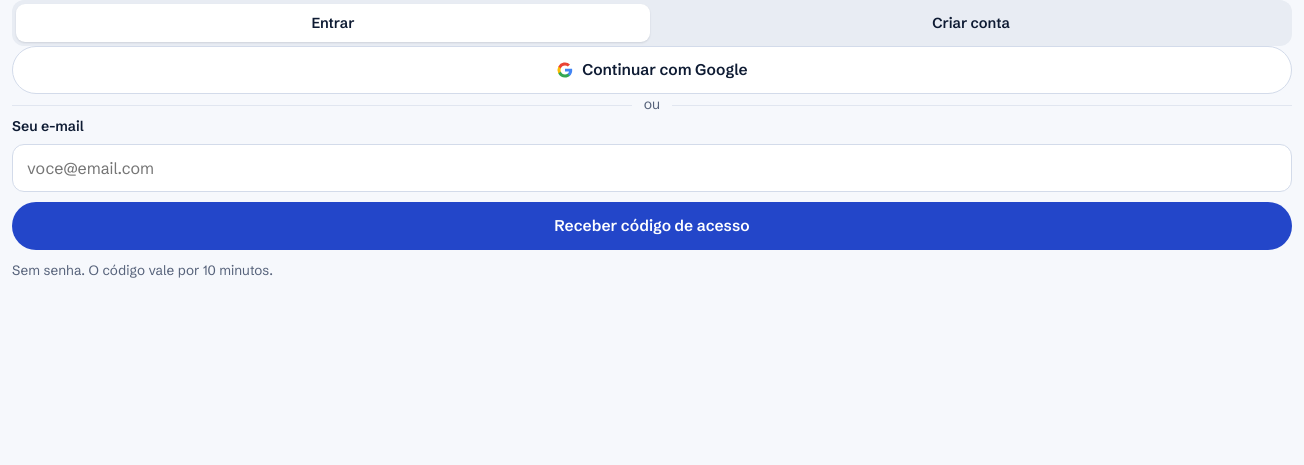
Test: Login por código › criar conta com e-mail já cadastrado: indica Entrar
Click the tab "Criar conta" at (971, 23), box x1=654 y1=4 x2=1288 y2=42
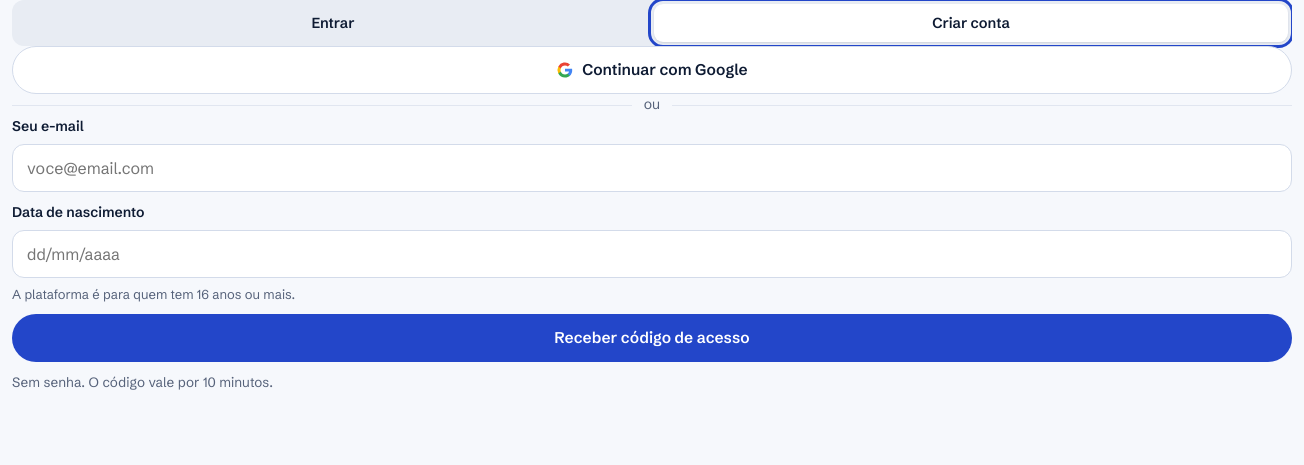
Type "aluno@email.com" into the field labelled "Seu e-mail" at (652, 168), box x1=12 y1=144 x2=1292 y2=192
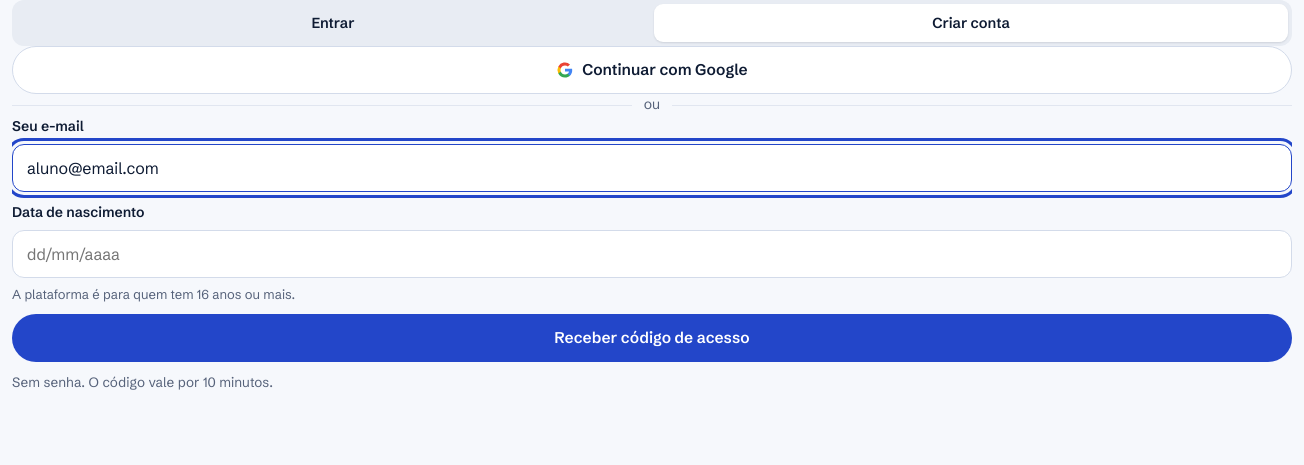
Click the button "Receber código de acesso" at (652, 338), box x1=12 y1=314 x2=1292 y2=362
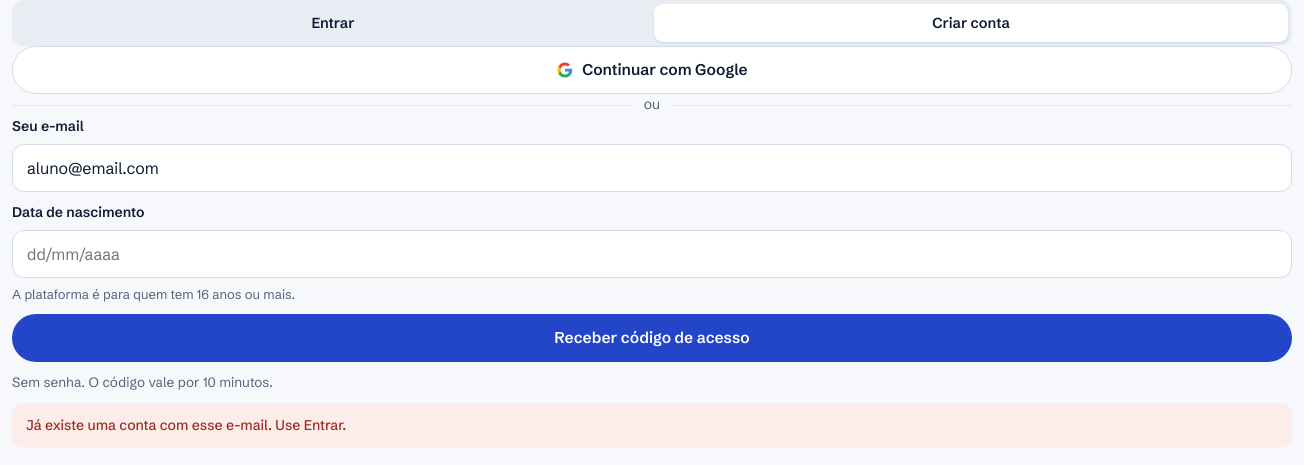
Expected: the message reads "Já existe uma conta com esse e-mail. Use Entrar.", x1=26 y1=416 x2=346 y2=434
